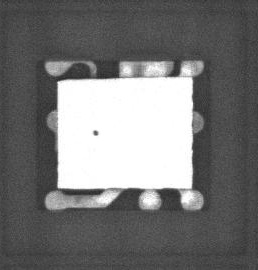DIE_INK: (87, 134, 96, 144)
